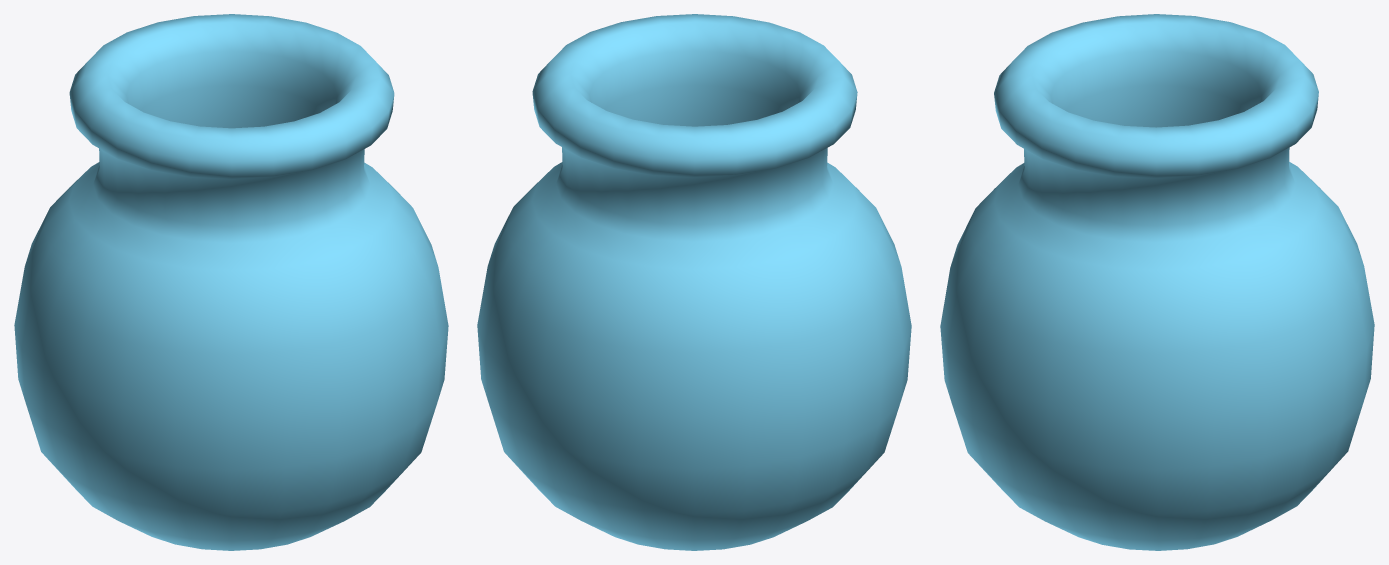
File: Flask, Round Bottom, Wide Mouth.fbx
3 views of the same model, side by side, from view 1: azimuth 30°, elevation 25°; view 2: azimuth 150°, elevation 25°; view 3: azimuth 270°, elevation 25° (orthographic).
Visible parts, largest first — view 1: Flask, Round Bottom, Wide Mouth_LOD0; view 2: Flask, Round Bottom, Wide Mouth_LOD0; view 3: Flask, Round Bottom, Wide Mouth_LOD0.
Part boxes in pixels (x1,y1,x2,y2): Flask, Round Bottom, Wide Mouth_LOD0: (14,14,448,550); Flask, Round Bottom, Wide Mouth_LOD0: (477,14,911,550); Flask, Round Bottom, Wide Mouth_LOD0: (940,14,1374,550).
Size of what is drawn, in the model's own units: 0.4439 by 0.5083 by 0.4439.
